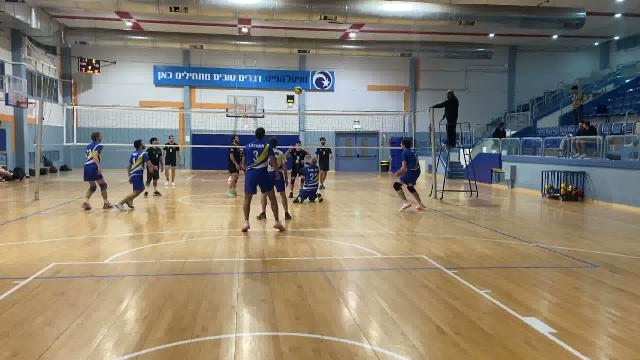ball: (291, 85, 303, 98)
